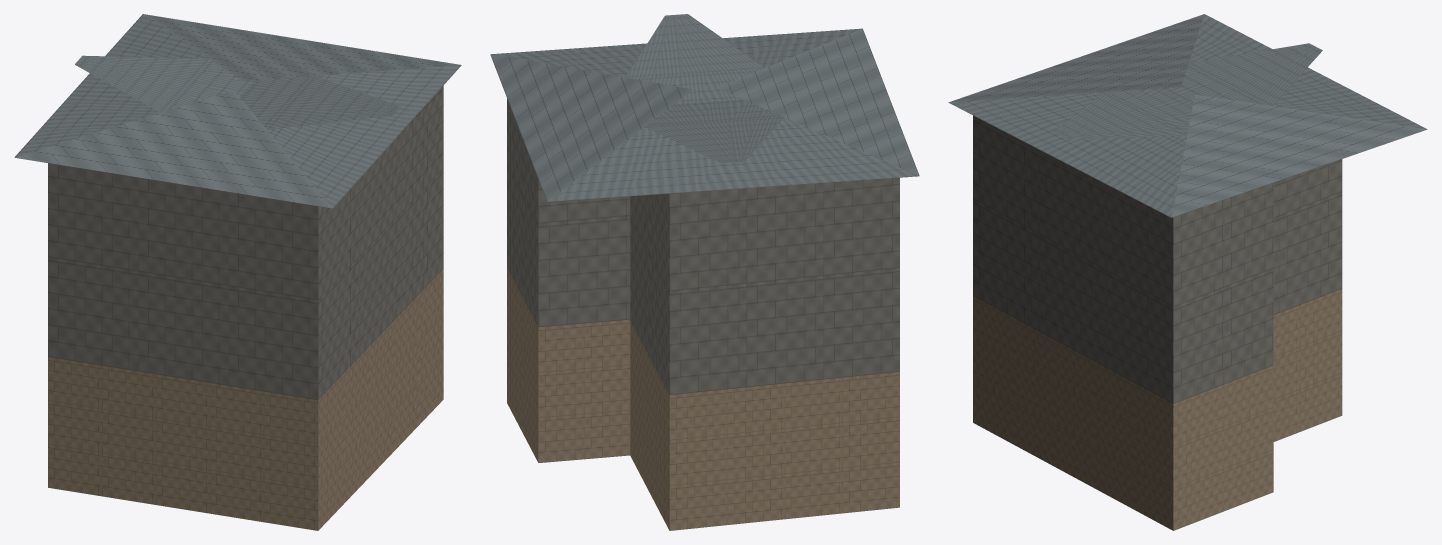
The model's file is bld_c38_36_288.gltf.
3 renders of one model, left to right at view 1: azimuth 30°, elevation 25°; view 2: azimuth 150°, elevation 25°; view 3: azimuth 270°, elevation 25°, orthographic. The views are drawn at different scales.
Visible parts, largest first — view 1: bld_c38_36_288; view 2: bld_c38_36_288; view 3: bld_c38_36_288.
Boxes of the visible parts, x1=… form: bld_c38_36_288: x1=14, y1=14, x2=461, y2=530; bld_c38_36_288: x1=490, y1=14, x2=919, y2=530; bld_c38_36_288: x1=948, y1=14, x2=1427, y2=530.
Bounding box in the file's own units: 17.57 × 13.9 × 17.46.
3 materials, 3 textured.
